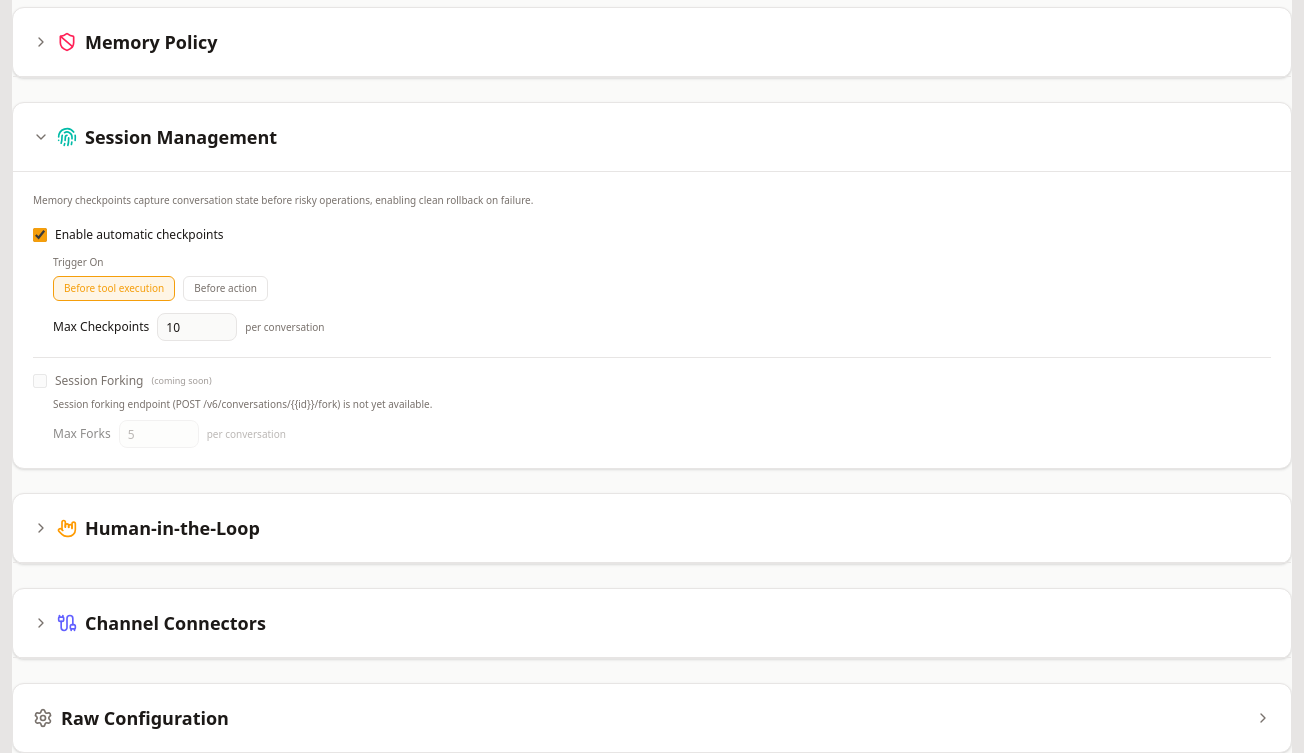
AgentDetailPage › renders channels section with add button
(page scrolled)
// Channel Connectors section is collapsed by default (no channels) — expand it
Click the button "Channel Connectors": (175, 623) [13,589,1291,658]
(page scrolled)
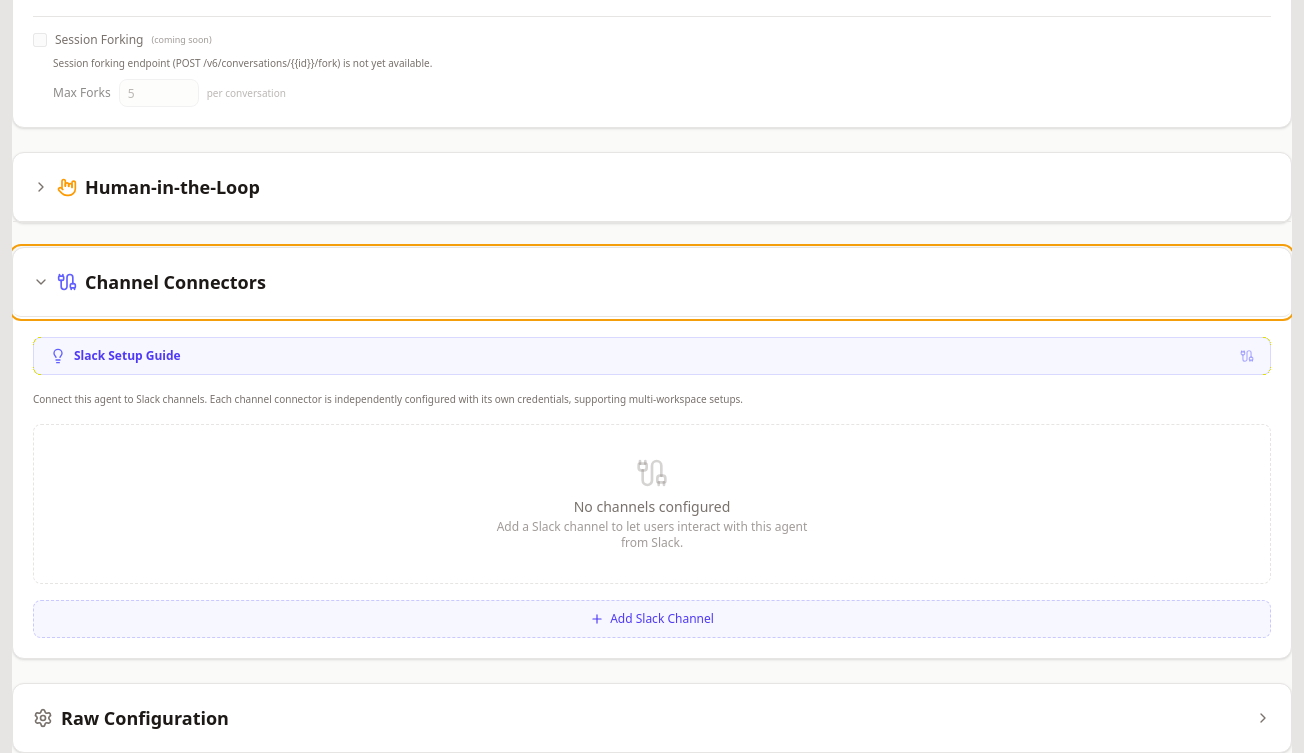
Expected: the element with test id "channels-section" is shown, [33,337,1271,638]
Expected: the button with test id "add-slack-channel-btn" is shown, [33,600,1271,638]
